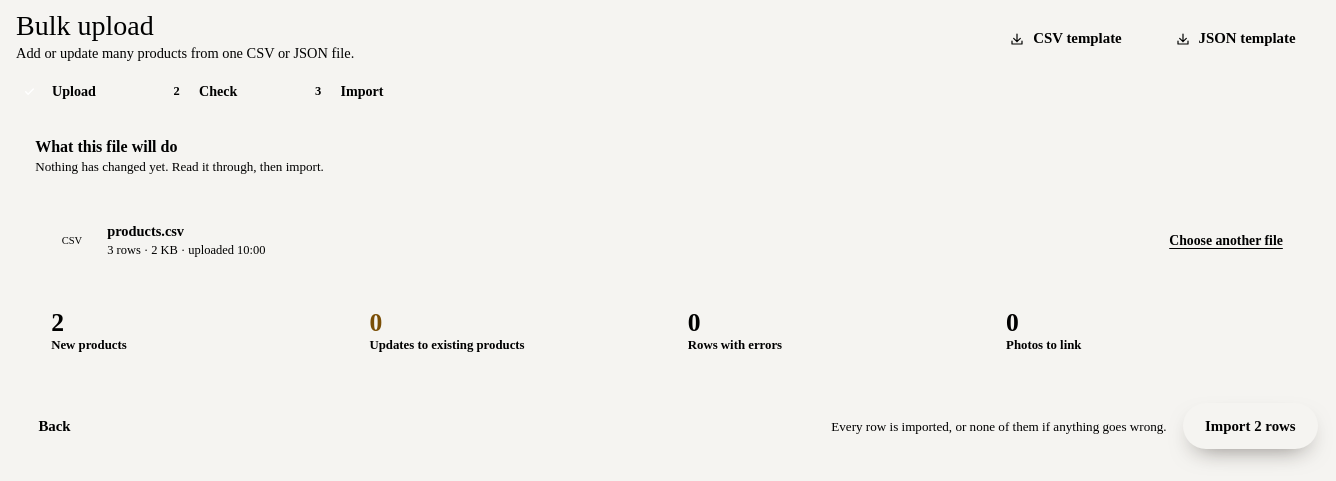
Scenario: ImportPage › imports a clean file in one go
The image size is (1336, 481).
Step 1. Click the button "Import 2 rows" → (1250, 426), box 1183,403 -> 1318,450
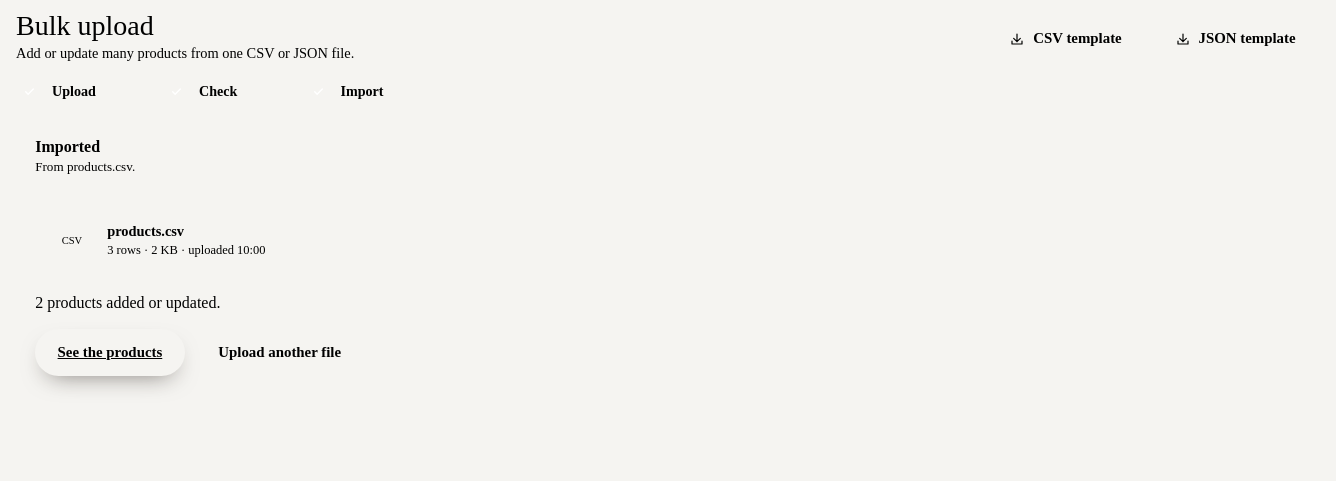
Expected: the text "2 products added or updated." is shown, 35,294 -> 220,311
